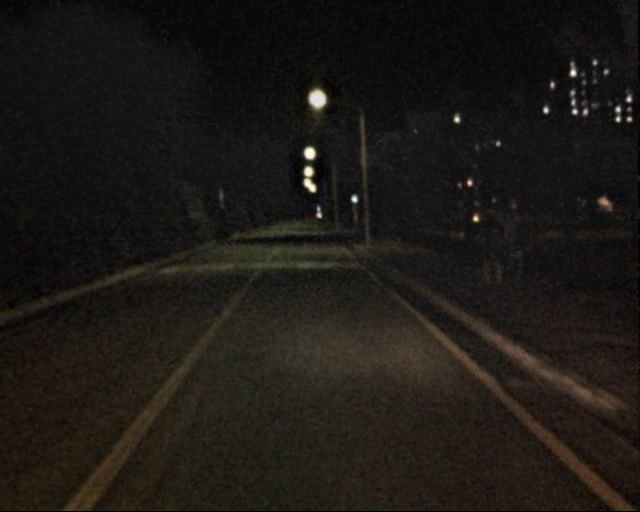person: (502, 211, 532, 285), (474, 214, 503, 285)
